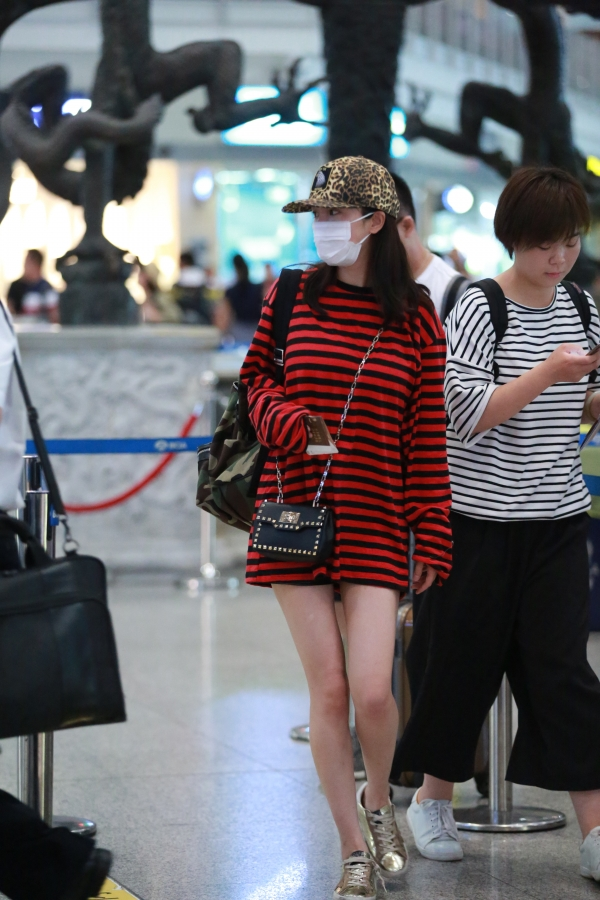face: (521, 205, 578, 287)
face_mask: (313, 189, 360, 267)
